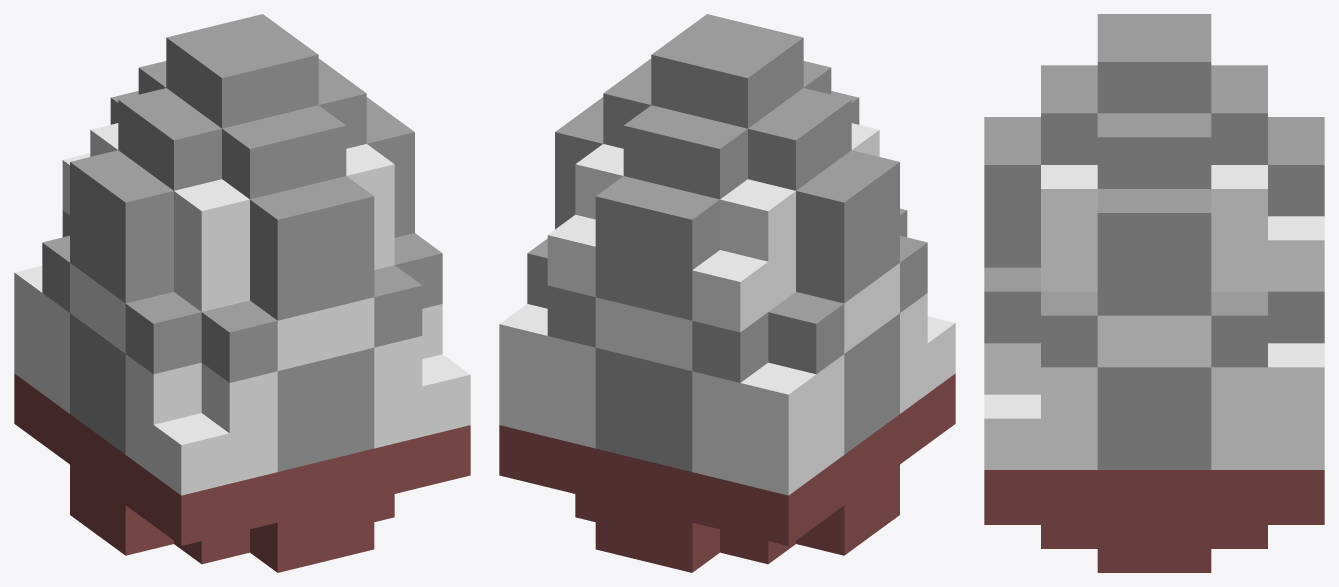
The model's file is ClassicBullet.fbx.
3 views of the same model, side by side, from view 1: azimuth 30°, elevation 25°; view 2: azimuth 150°, elevation 25°; view 3: azimuth 270°, elevation 25° (orthographic).
Visible parts, largest first — view 1: ClassicBullet; view 2: ClassicBullet; view 3: ClassicBullet.
Part boxes in pixels (left/top/right/bottom): ClassicBullet: left=14, top=14, right=470, bottom=572; ClassicBullet: left=499, top=14, right=955, bottom=572; ClassicBullet: left=984, top=14, right=1324, bottom=572.
Size of the model in its own units: 600 by 900 by 600.
